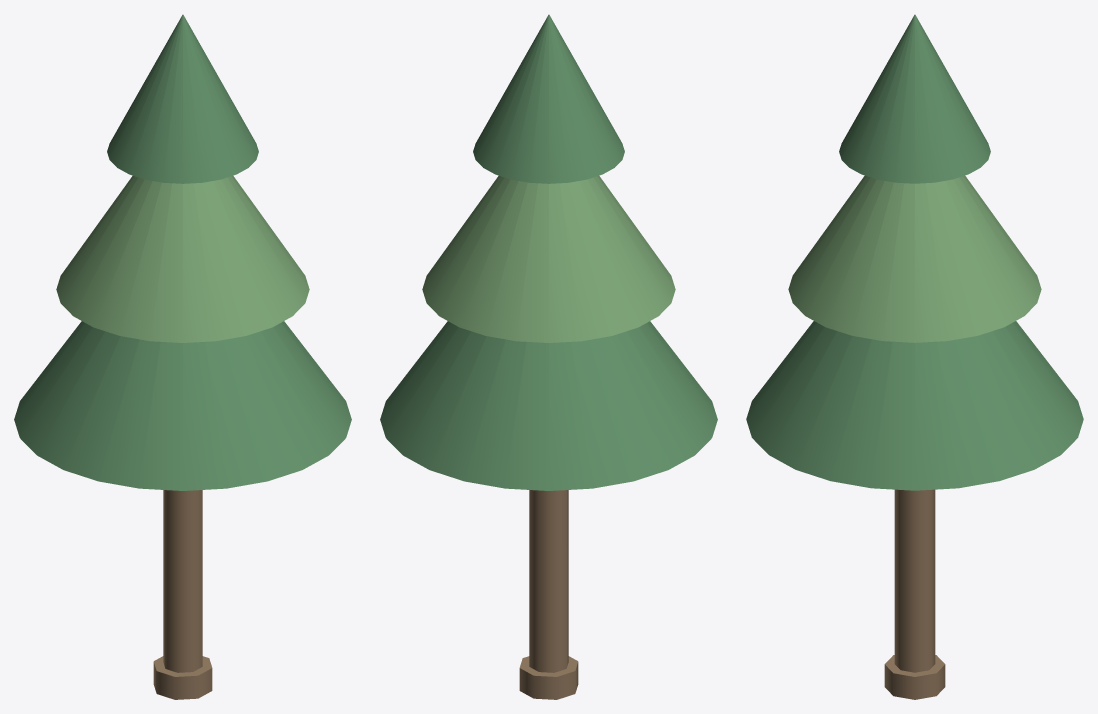
File: pine_tree.glb
The picture shows the model from 3 angles, left to right: view 1: azimuth 30°, elevation 25°; view 2: azimuth 150°, elevation 25°; view 3: azimuth 270°, elevation 25°; orthographic projection.
Parts seen in each view (by area): view 1: foliage_bottom, foliage_middle, foliage_top, trunk, root_flare; view 2: foliage_bottom, foliage_middle, foliage_top, trunk, root_flare; view 3: foliage_bottom, foliage_middle, foliage_top, trunk, root_flare.
Part boxes in pixels (x1=…): foliage_bottom: x1=14, y1=321, x2=351, y2=490; foliage_middle: x1=56, y1=176, x2=309, y2=342; foliage_top: x1=107, y1=14, x2=258, y2=183; trunk: x1=163, y1=490, x2=202, y2=672; root_flare: x1=153, y1=656, x2=212, y2=699; foliage_bottom: x1=380, y1=321, x2=717, y2=490; foliage_middle: x1=422, y1=176, x2=675, y2=342; foliage_top: x1=473, y1=14, x2=624, y2=183; trunk: x1=529, y1=490, x2=568, y2=672; root_flare: x1=519, y1=656, x2=578, y2=699; foliage_bottom: x1=746, y1=321, x2=1083, y2=490; foliage_middle: x1=788, y1=175, x2=1041, y2=342; foliage_top: x1=839, y1=14, x2=990, y2=183; trunk: x1=894, y1=489, x2=935, y2=672; root_flare: x1=884, y1=655, x2=945, y2=699.
Bounding box in the file's own units: 2 × 4.4 × 2.
